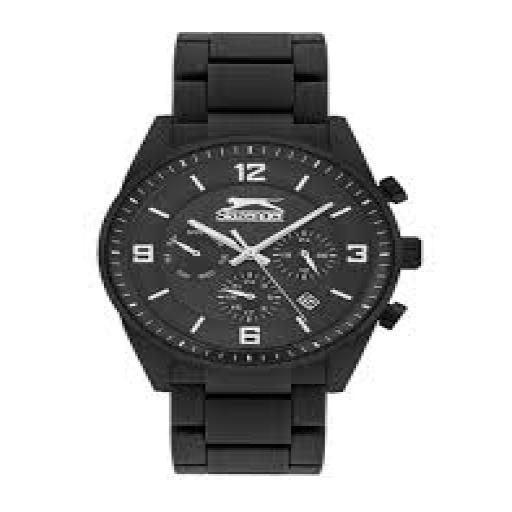KolSaati: (20, 8, 495, 486)
